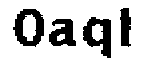0: (12, 6, 46, 50)
a: (47, 18, 79, 51)
l: (116, 6, 142, 53)
q: (80, 18, 113, 60)
